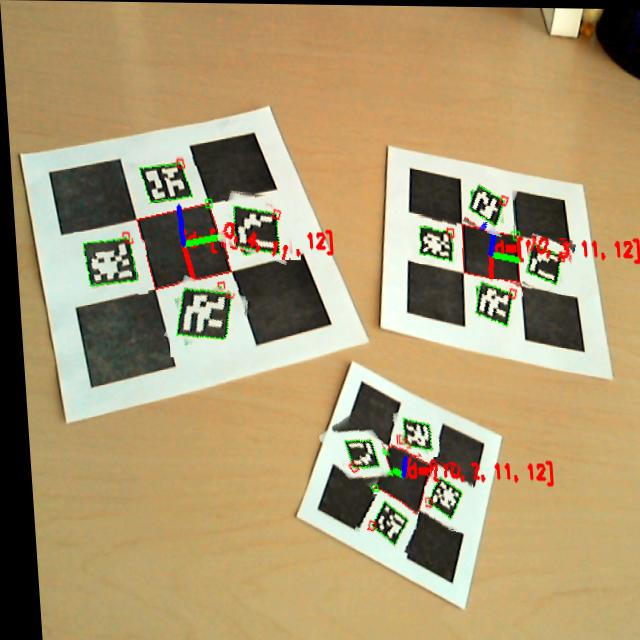aruco: (162, 280, 246, 358), (214, 190, 297, 259), (318, 411, 387, 488), (66, 233, 144, 293), (346, 493, 412, 551), (127, 152, 201, 203), (416, 462, 470, 531), (463, 172, 514, 234), (466, 277, 520, 335), (519, 234, 572, 292), (406, 213, 455, 263), (388, 405, 434, 456)
